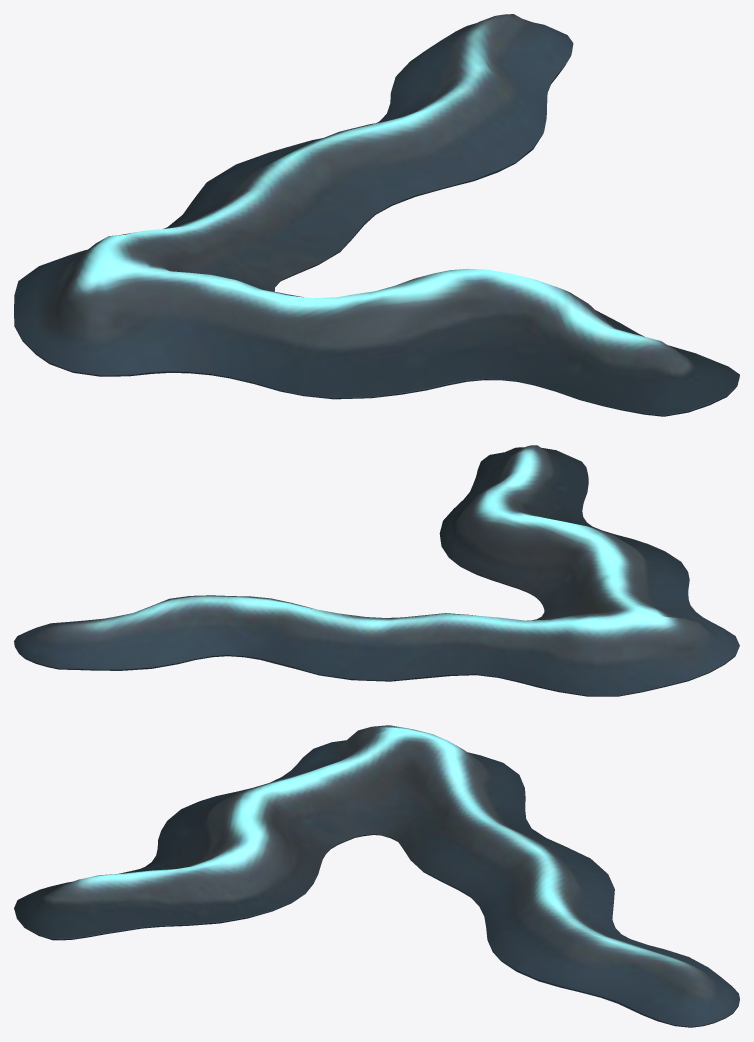
Rendered from caos_sts_chaosgrowth_02d_soma_v36.glb.
3 views of the same model, one above another, from view 1: azimuth 30°, elevation 25°; view 2: azimuth 150°, elevation 25°; view 3: azimuth 270°, elevation 25° (orthographic). The views are drawn at different scales.
Visible parts, largest first — view 1: caos_sts_chaosgrowth_02d; view 2: caos_sts_chaosgrowth_02d; view 3: caos_sts_chaosgrowth_02d.
Part boxes in pixels (box(x1,y1,x2,y2)): caos_sts_chaosgrowth_02d: box(14, 14, 739, 416); caos_sts_chaosgrowth_02d: box(14, 445, 739, 696); caos_sts_chaosgrowth_02d: box(14, 725, 739, 1027).
Bounding box in the file's own units: 9.59 × 0.7368 × 10.24.
Materials: 1 (1 with a texture image).
